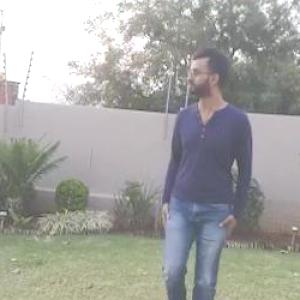follow: (150, 40, 256, 298)
